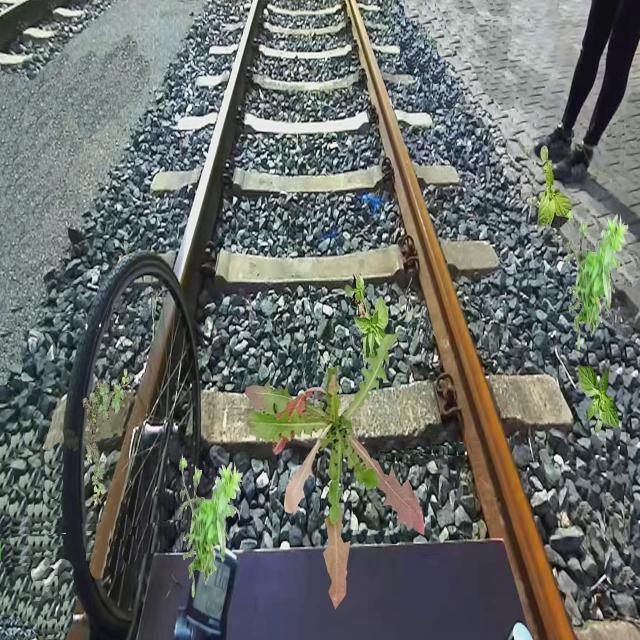Plant: (245, 332, 425, 610), (178, 454, 242, 598), (564, 207, 628, 350), (83, 369, 132, 507), (345, 272, 393, 367), (538, 145, 574, 228), (578, 364, 620, 435)
